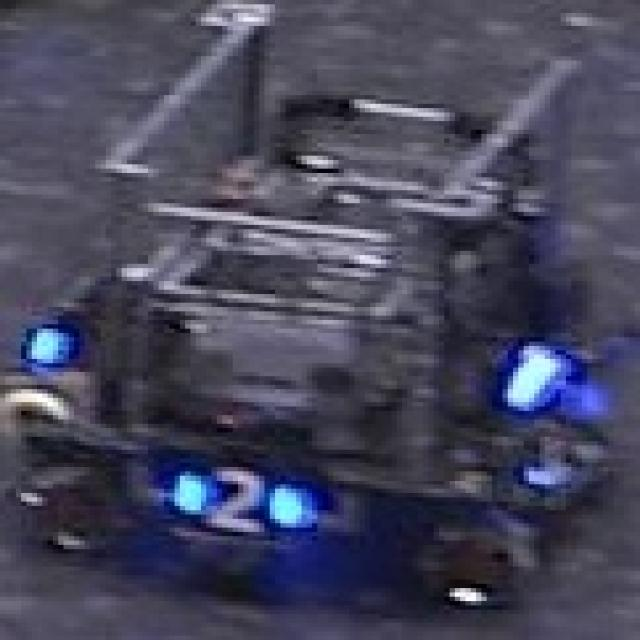B2: (164, 458, 301, 532)
